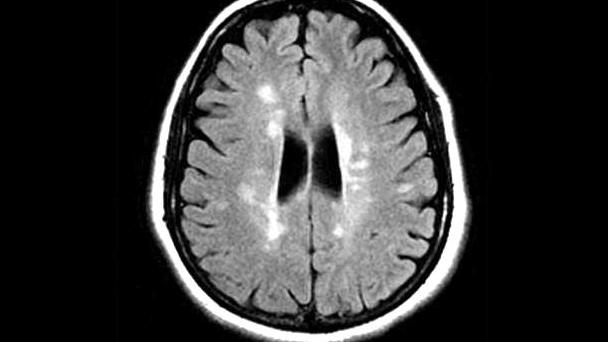Normal_Brain: (136, 1, 506, 342)
